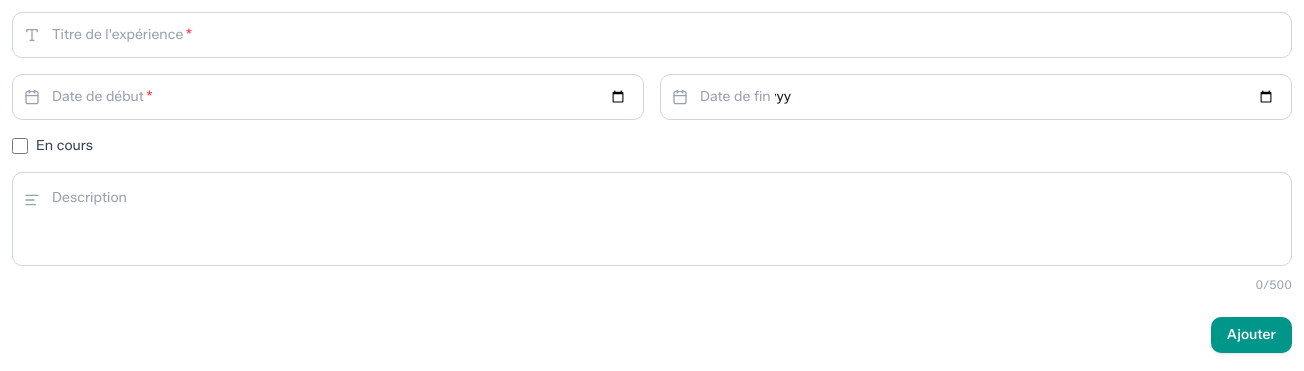
ExperienceForm › watch behavior › restores date_fin when is_ongoing is unchecked
The width and height of the screenshot is (1304, 371).
# Set date_fin
Type "2024-06-30" into the date field with test id "date_fin-input".
click(976, 97); type("2024-06-30")  # box left=660, top=74, right=1292, bottom=120
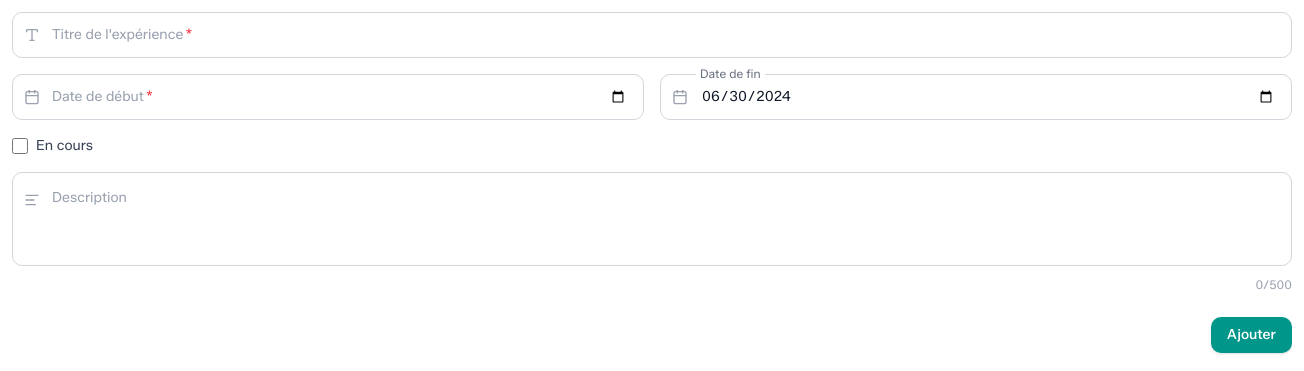
# Check "En cours" - clears date_fin
Click the checkbox with test id "is_ongoing-checkbox".
click(20, 146)  # box left=12, top=138, right=28, bottom=154
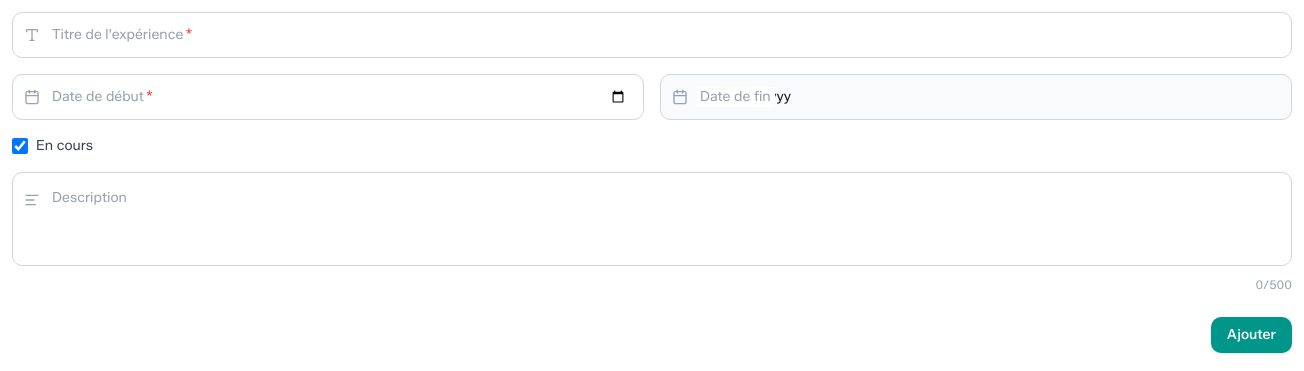
Check: the date field with test id "date_fin-input" is disabled, box left=660, top=74, right=1292, bottom=120
# Uncheck "En cours" - should restore date_fin
Click the checkbox with test id "is_ongoing-checkbox".
click(20, 146)  # box left=12, top=138, right=28, bottom=154
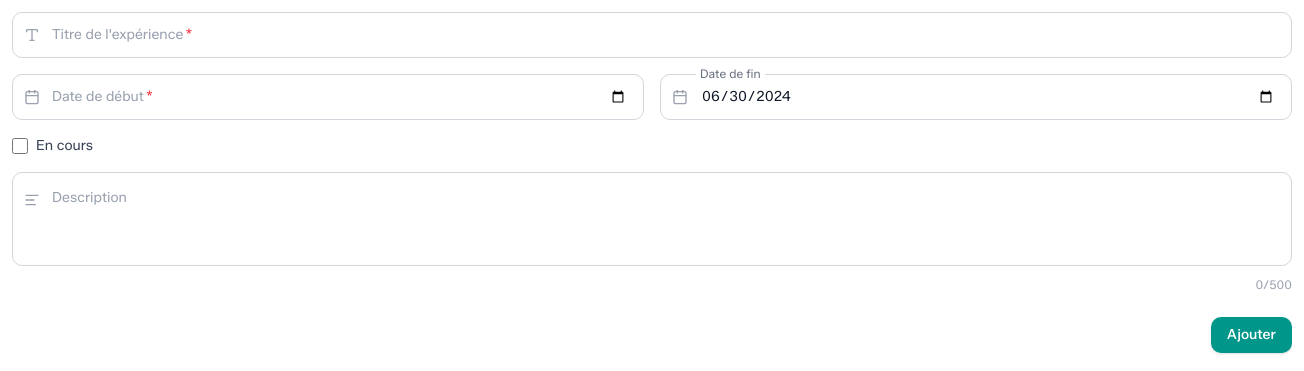
Check: the date field with test id "date_fin-input" is enabled, box left=660, top=74, right=1292, bottom=120
